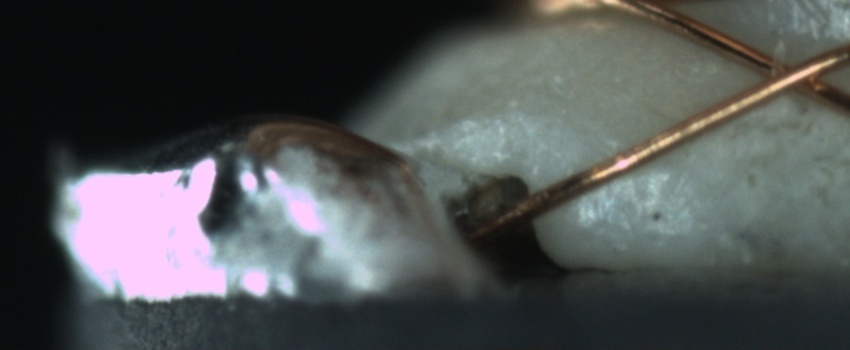CL: (740, 41, 845, 106)
